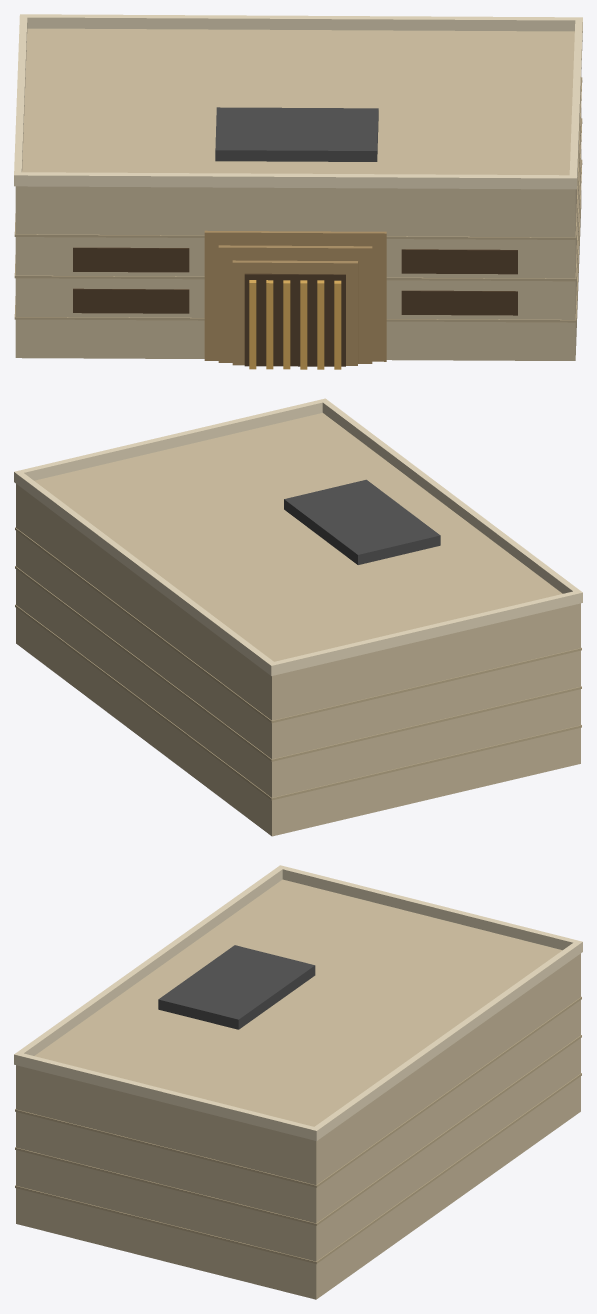
Rendered from golden-jaguar.glb.
3 views of the same model, one above another, from view 1: azimuth 30°, elevation 25°; view 2: azimuth 150°, elevation 25°; view 3: azimuth 270°, elevation 25° (orthographic). The views are drawn at different scales.
Parts seen in each view (by area): view 1: golden-jaguar; view 2: golden-jaguar; view 3: golden-jaguar.
Boxes of the visible parts, x1,y1,x2,y2 form: golden-jaguar: (14,14,582,369); golden-jaguar: (14,398,582,836); golden-jaguar: (14,865,582,1299).
Size of the model in its own units: 67.21 by 20 by 60.81.
